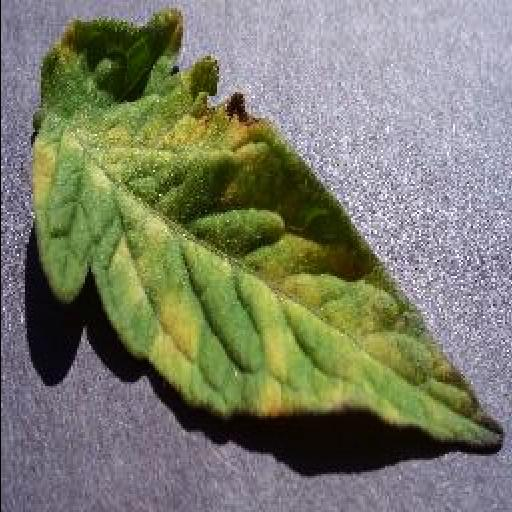disease_tomato: (26, 11, 504, 447)
